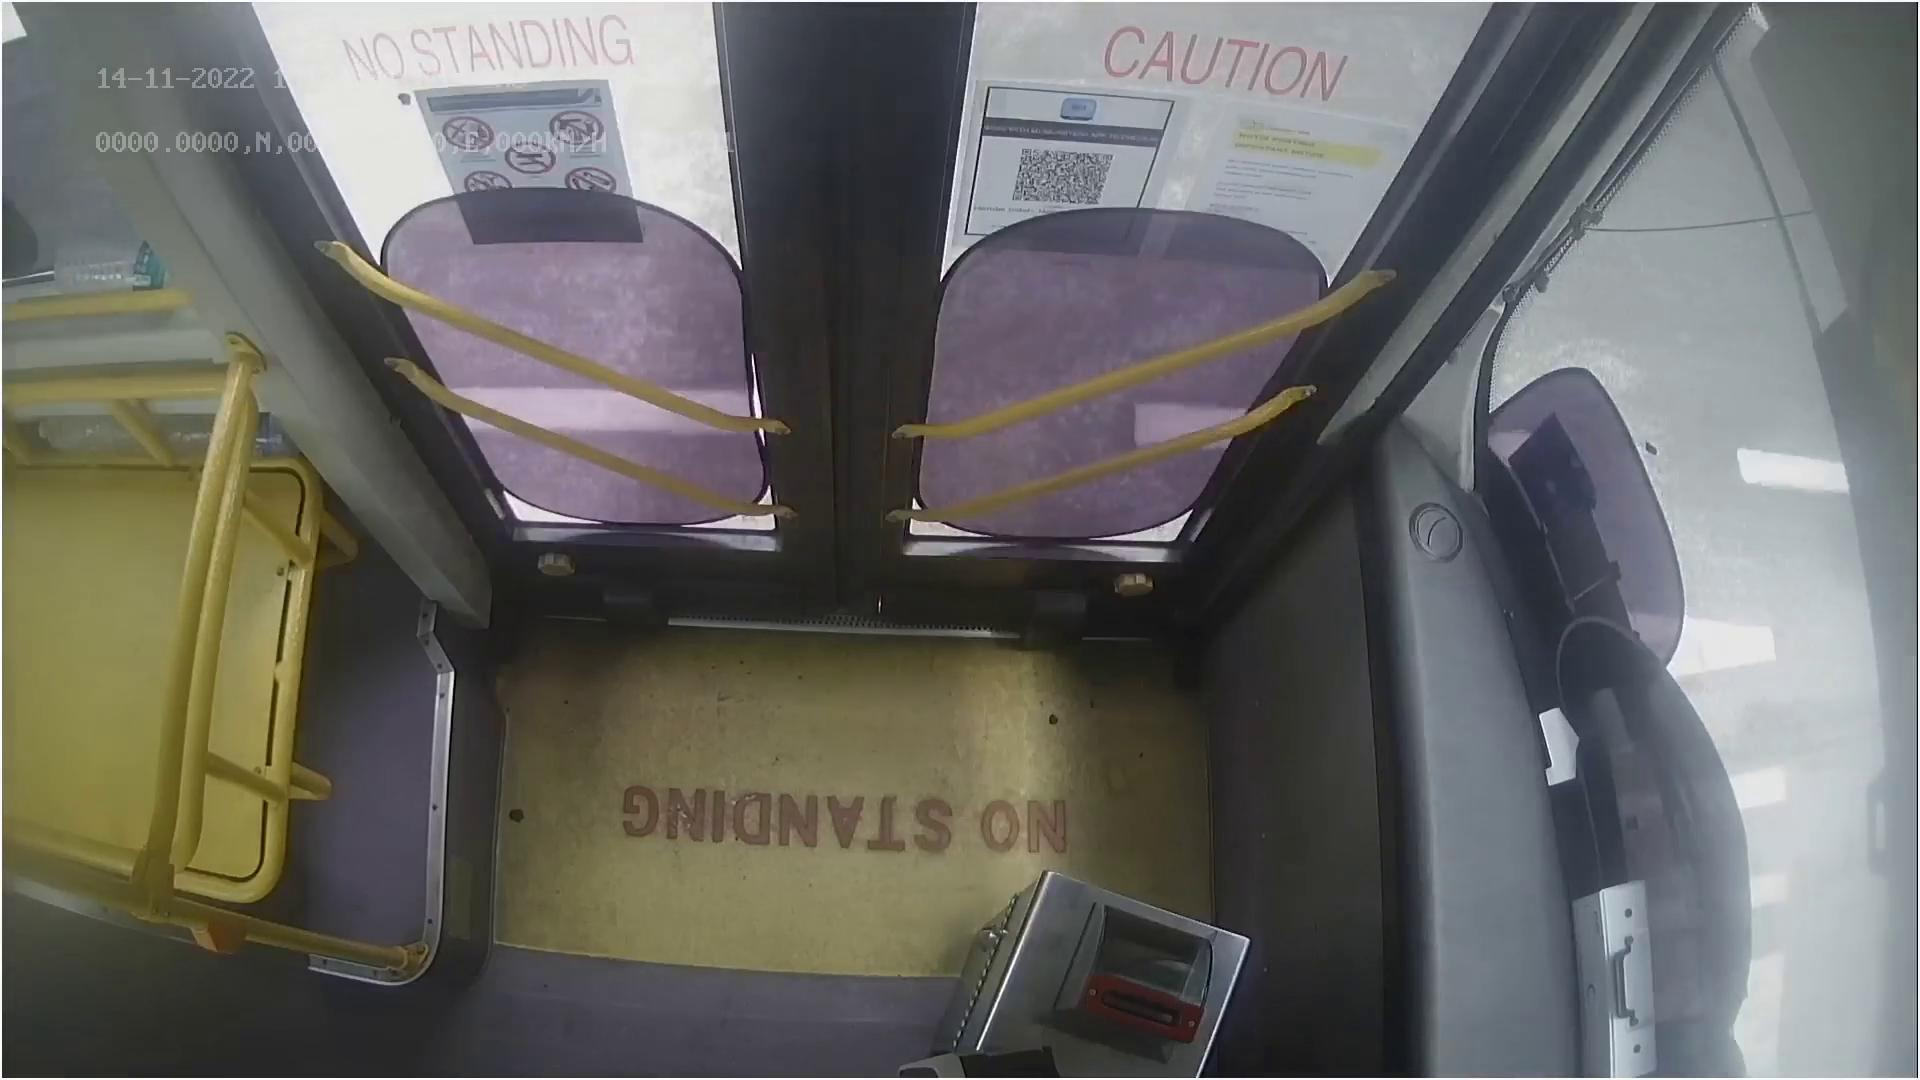close: (285, 0, 1451, 156)
